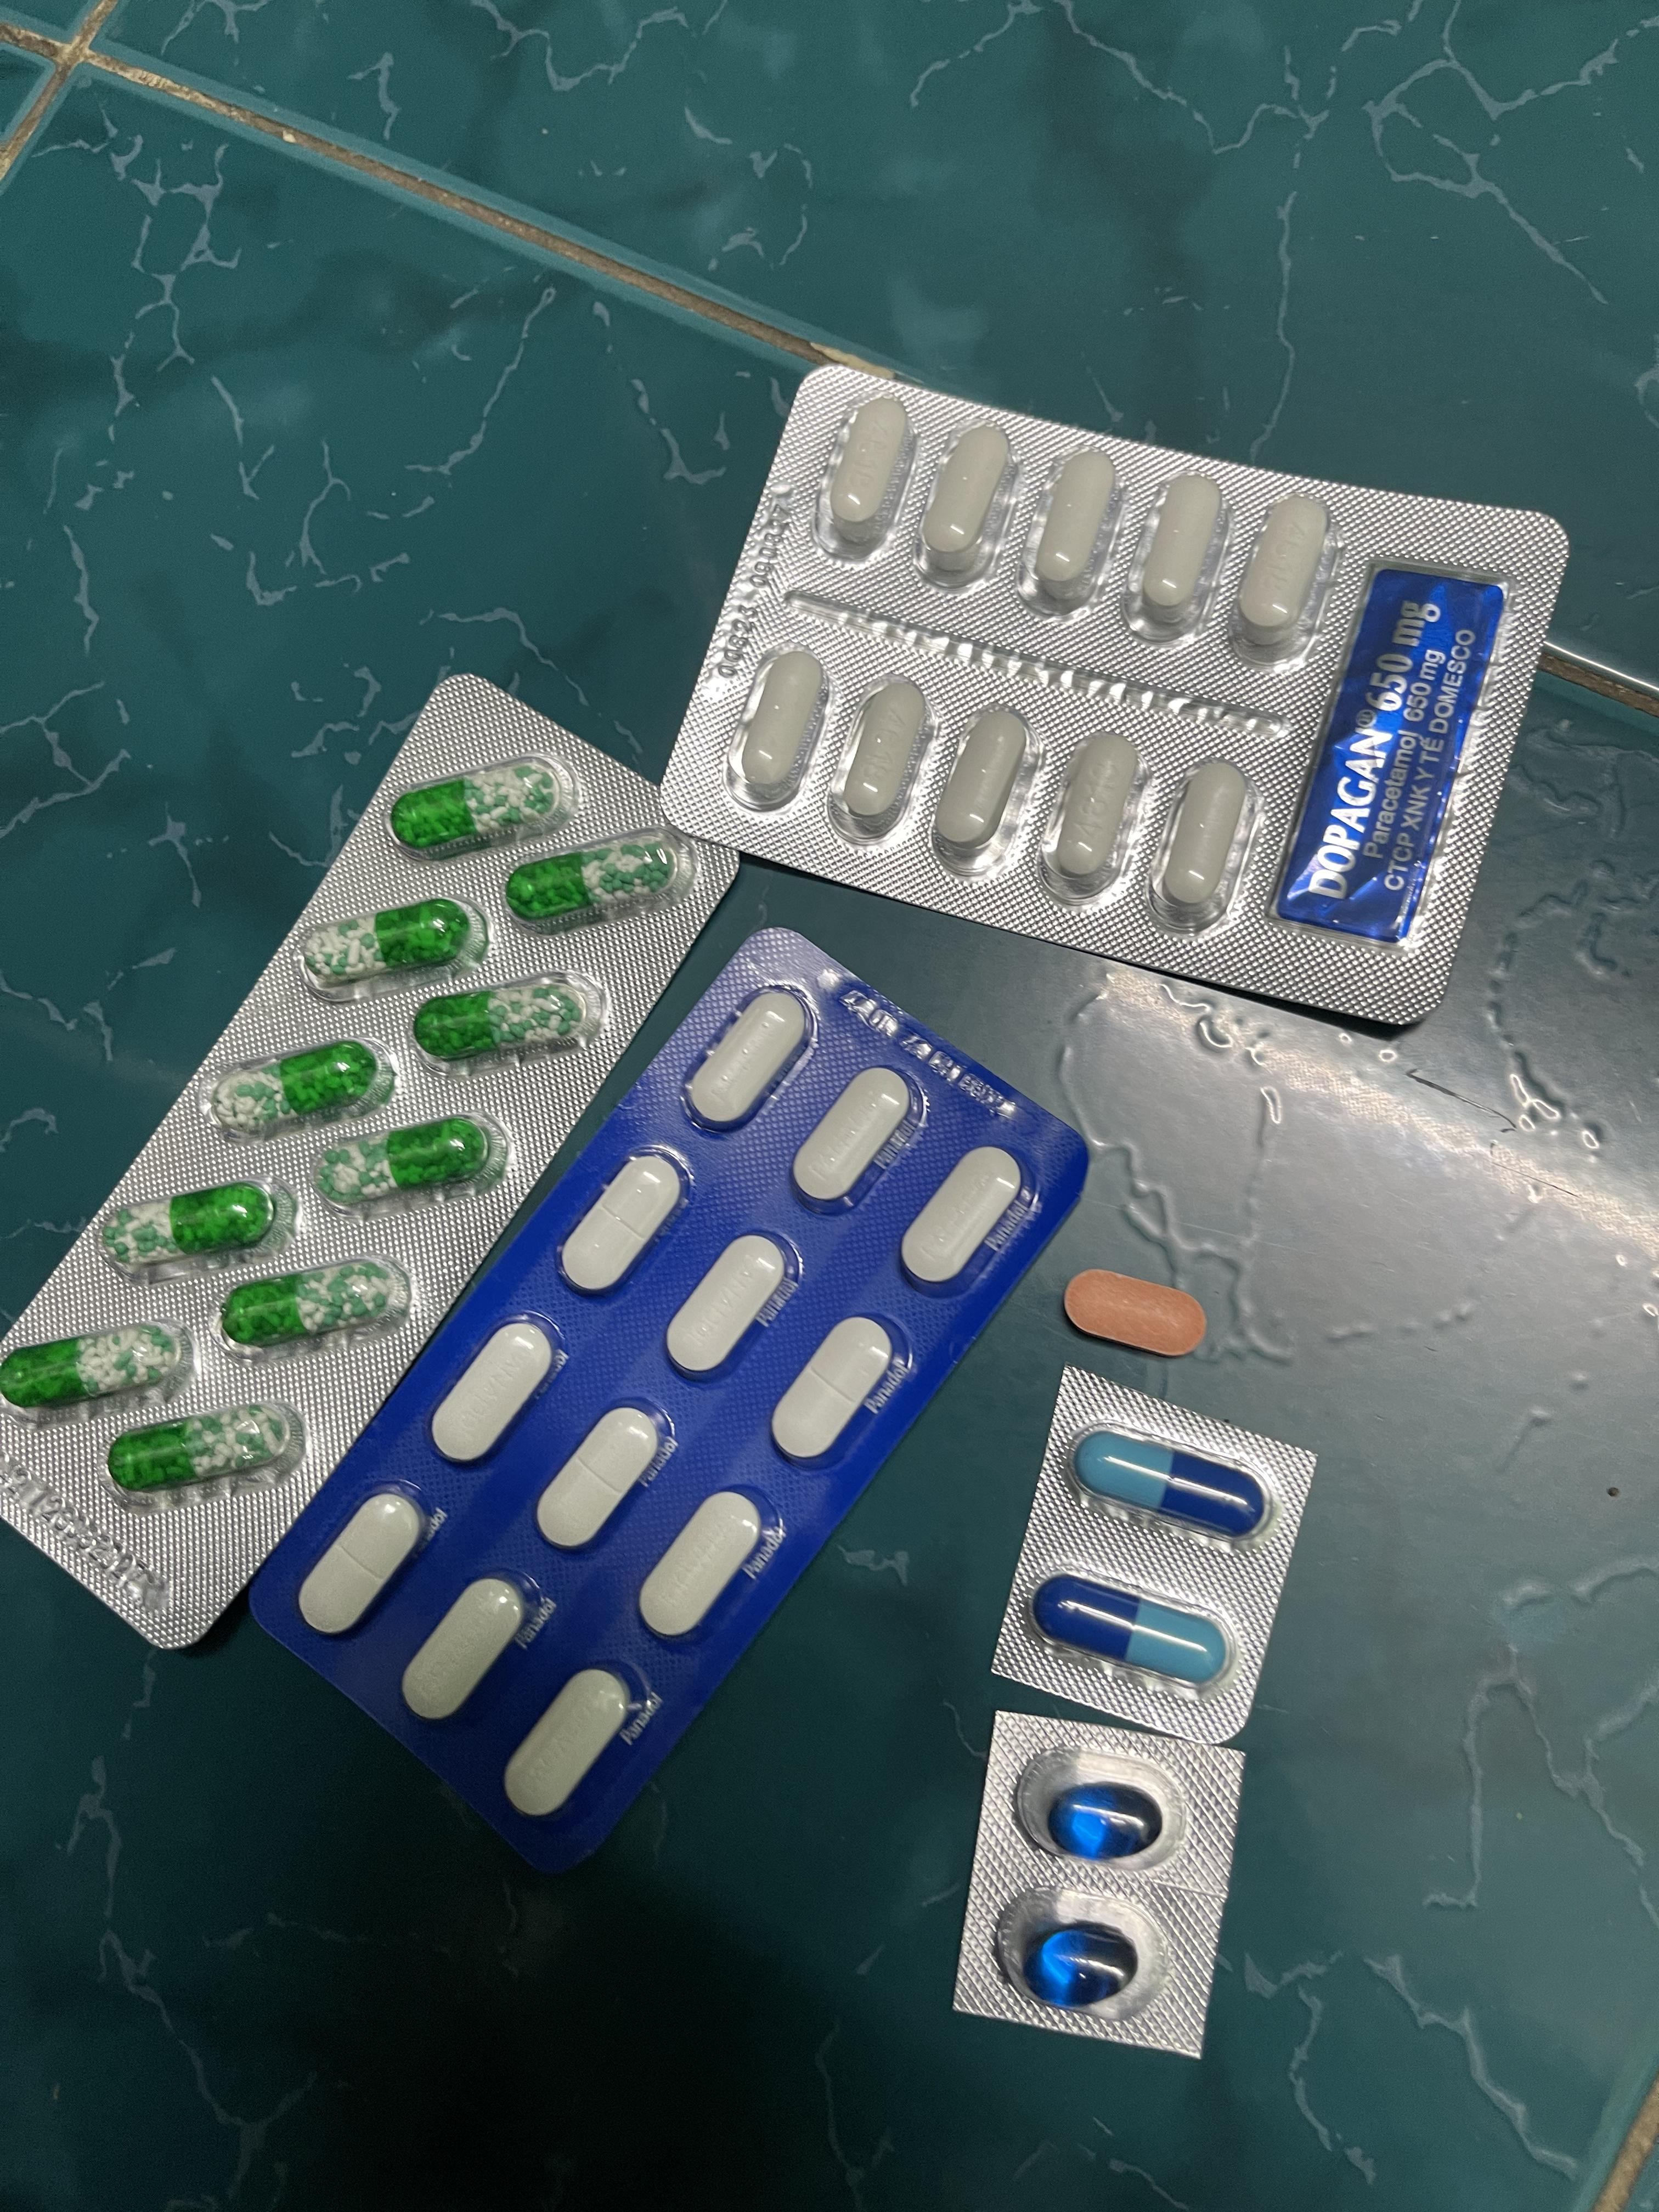Lincomyxin_500mg: (1049, 1784, 1162, 1858), (1026, 1930, 1131, 2008)
Loratadine_10mg: (1060, 1266, 1204, 1357)
Paracetamol_350mg: (505, 1669, 641, 1818), (640, 1491, 772, 1642), (296, 1487, 429, 1635), (535, 1406, 667, 1552), (666, 1237, 796, 1385), (770, 1315, 897, 1467), (401, 1575, 532, 1721), (558, 1150, 687, 1294), (430, 1322, 558, 1467), (685, 988, 809, 1130), (903, 1144, 1025, 1285), (796, 1069, 918, 1209)
Paracetamol_500mg: (1037, 730, 1140, 899), (830, 672, 934, 836), (934, 707, 1035, 869), (920, 418, 1016, 571), (1234, 495, 1328, 644), (828, 395, 913, 543), (1161, 763, 1246, 911), (1138, 475, 1225, 620), (1032, 453, 1119, 596), (741, 650, 824, 786)
Paracetamol_650mg: (3, 1320, 193, 1418), (317, 1113, 502, 1211), (99, 1176, 286, 1270), (206, 1042, 389, 1134), (221, 1261, 406, 1346), (106, 1407, 288, 1491), (296, 902, 472, 988), (390, 763, 559, 852), (504, 836, 667, 918), (413, 982, 580, 1059)
pill: (1073, 1432, 1272, 1545), (1042, 1578, 1230, 1689)
